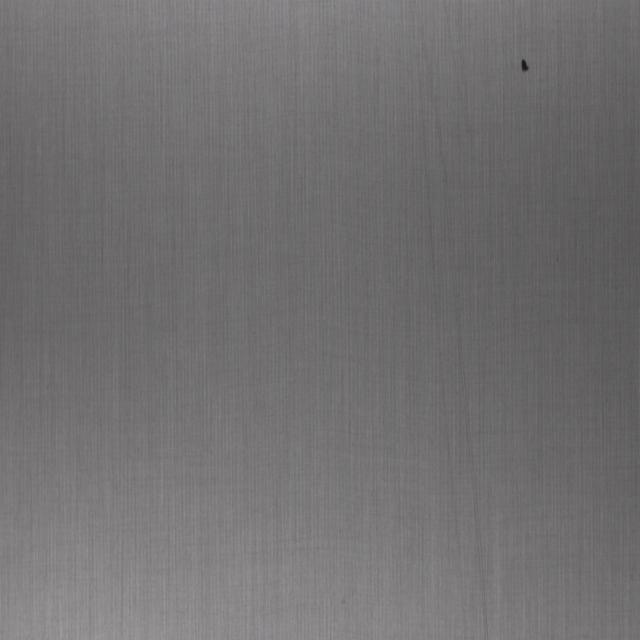dirty: (521, 56, 529, 74)
